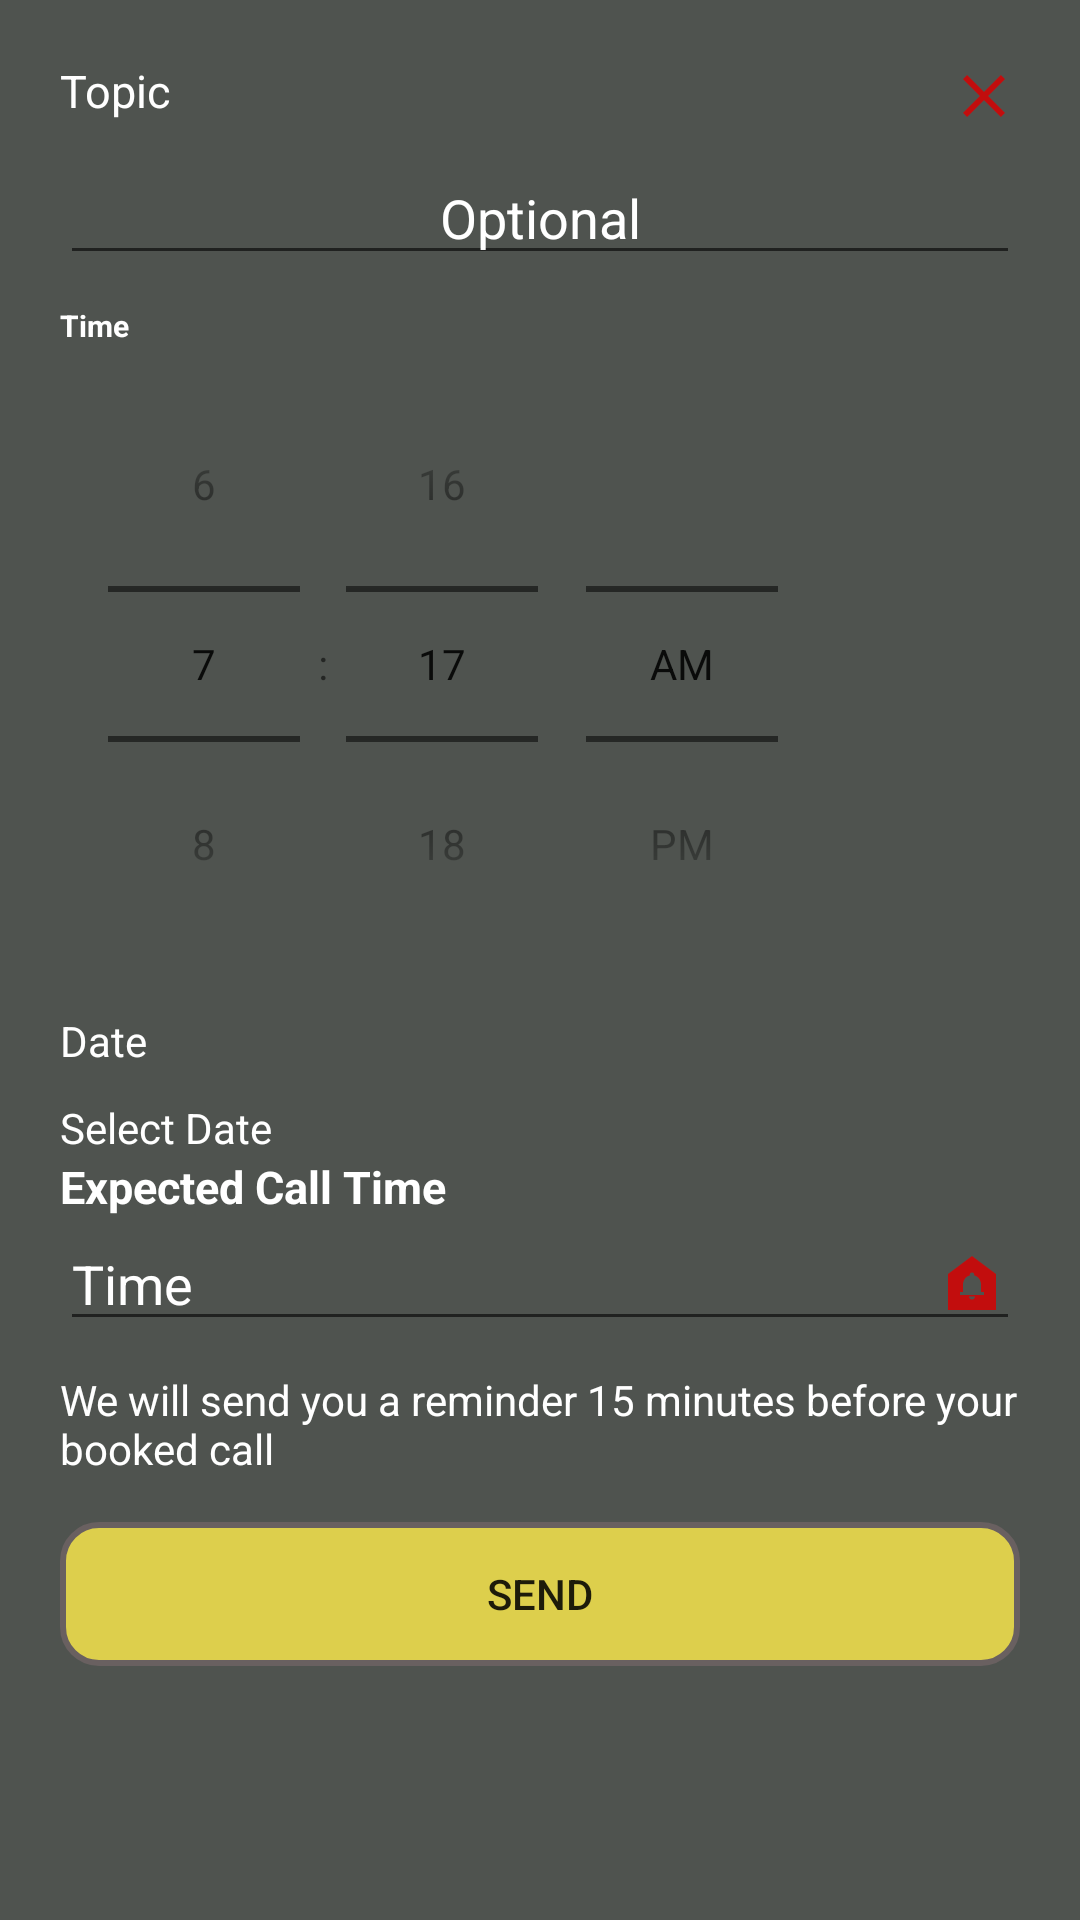

Icon click points for this 1080 × 1920 phone screenshot, format [x,y]:
clear: [984,96]
